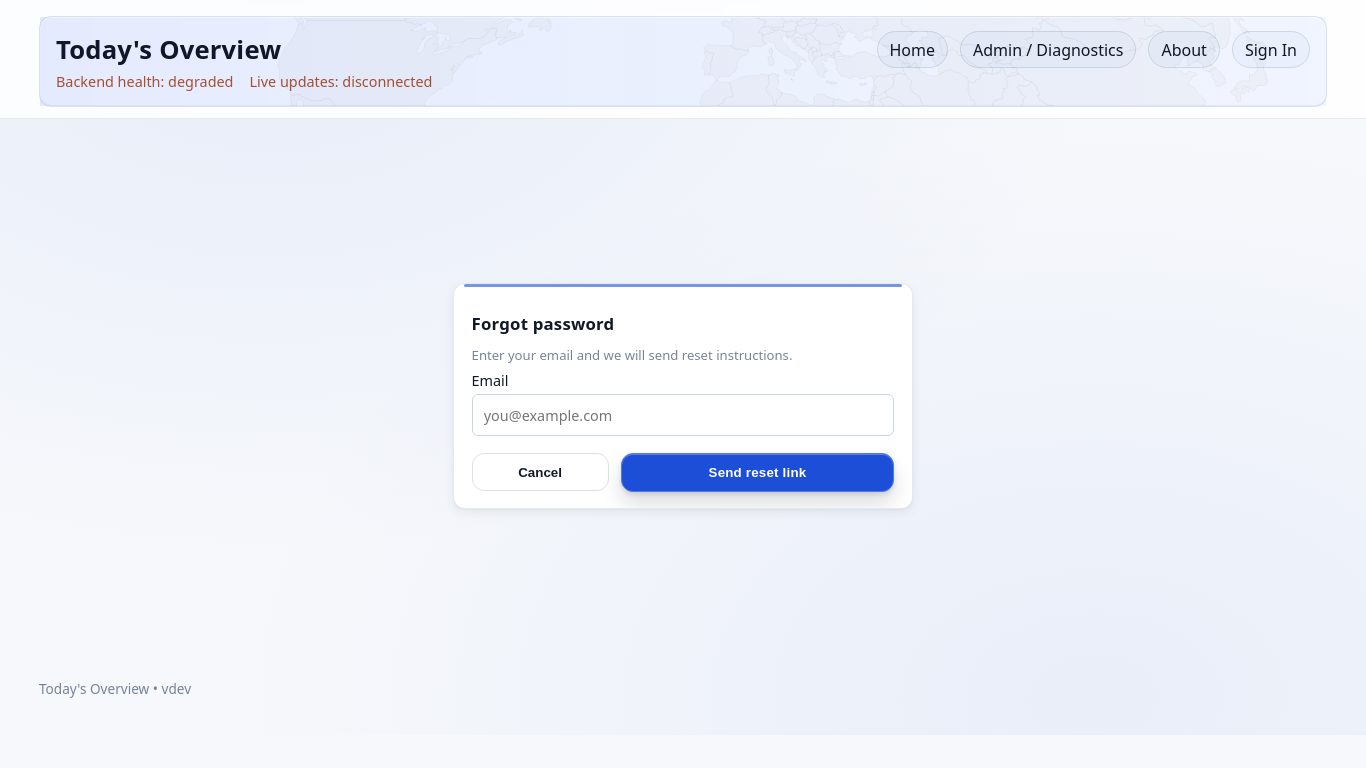
Test: App › clears forgot password notice on cancel
In the field labelled "Email": (683, 415) [472,394,894,436], type "user@example.com"
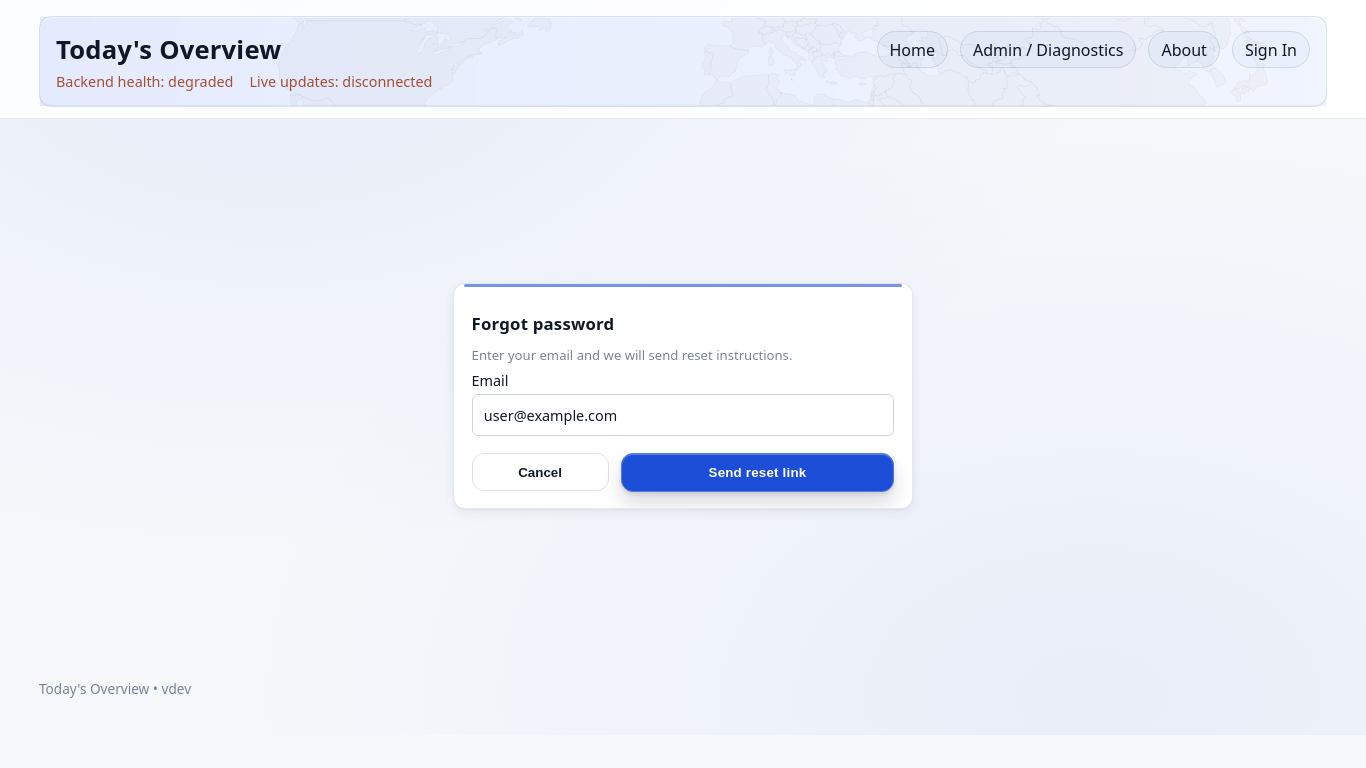
Click the button "Send reset link": (757, 472) [620,453,894,492]
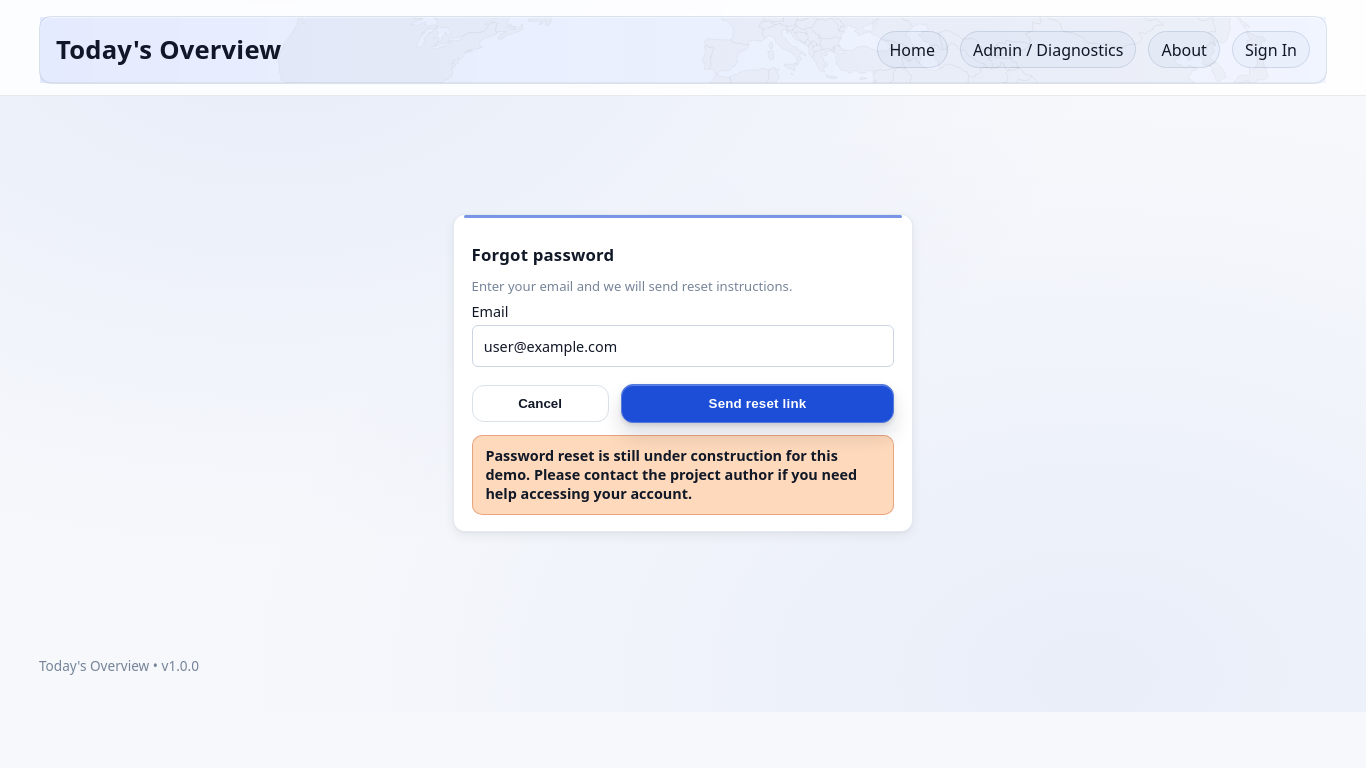
Result: the text "Password reset is still under construction for this demo. Please contact the project author if you need help accessing y" is shown at [485,446,857,504]
Click the button "Cancel": (540, 403) [472,384,608,422]
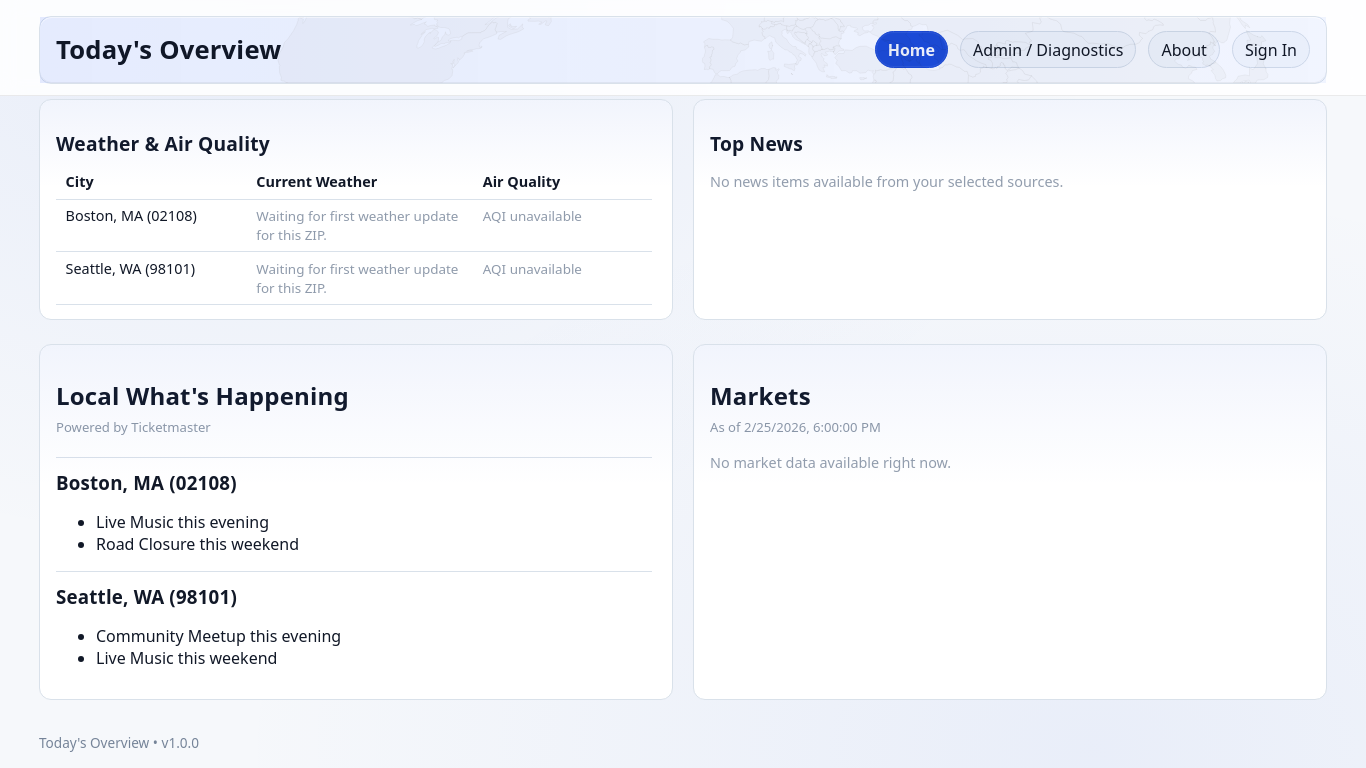
Result: the text "Password reset is still under construction for this demo. Please contact the project author if you need help accessing y" is gone
